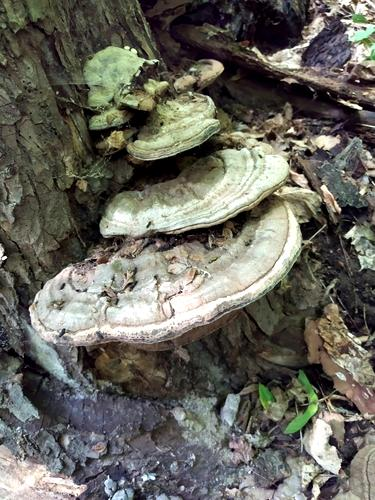Ganoderma - Fruit Body: (32, 170, 296, 345), (97, 49, 226, 161)
